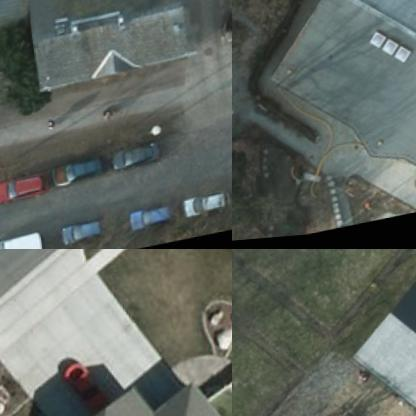car: (56, 356, 111, 415), (110, 139, 160, 176), (122, 201, 178, 234), (48, 154, 102, 188), (0, 167, 45, 205), (57, 214, 104, 245), (180, 192, 227, 220)
van: (0, 228, 46, 248)
